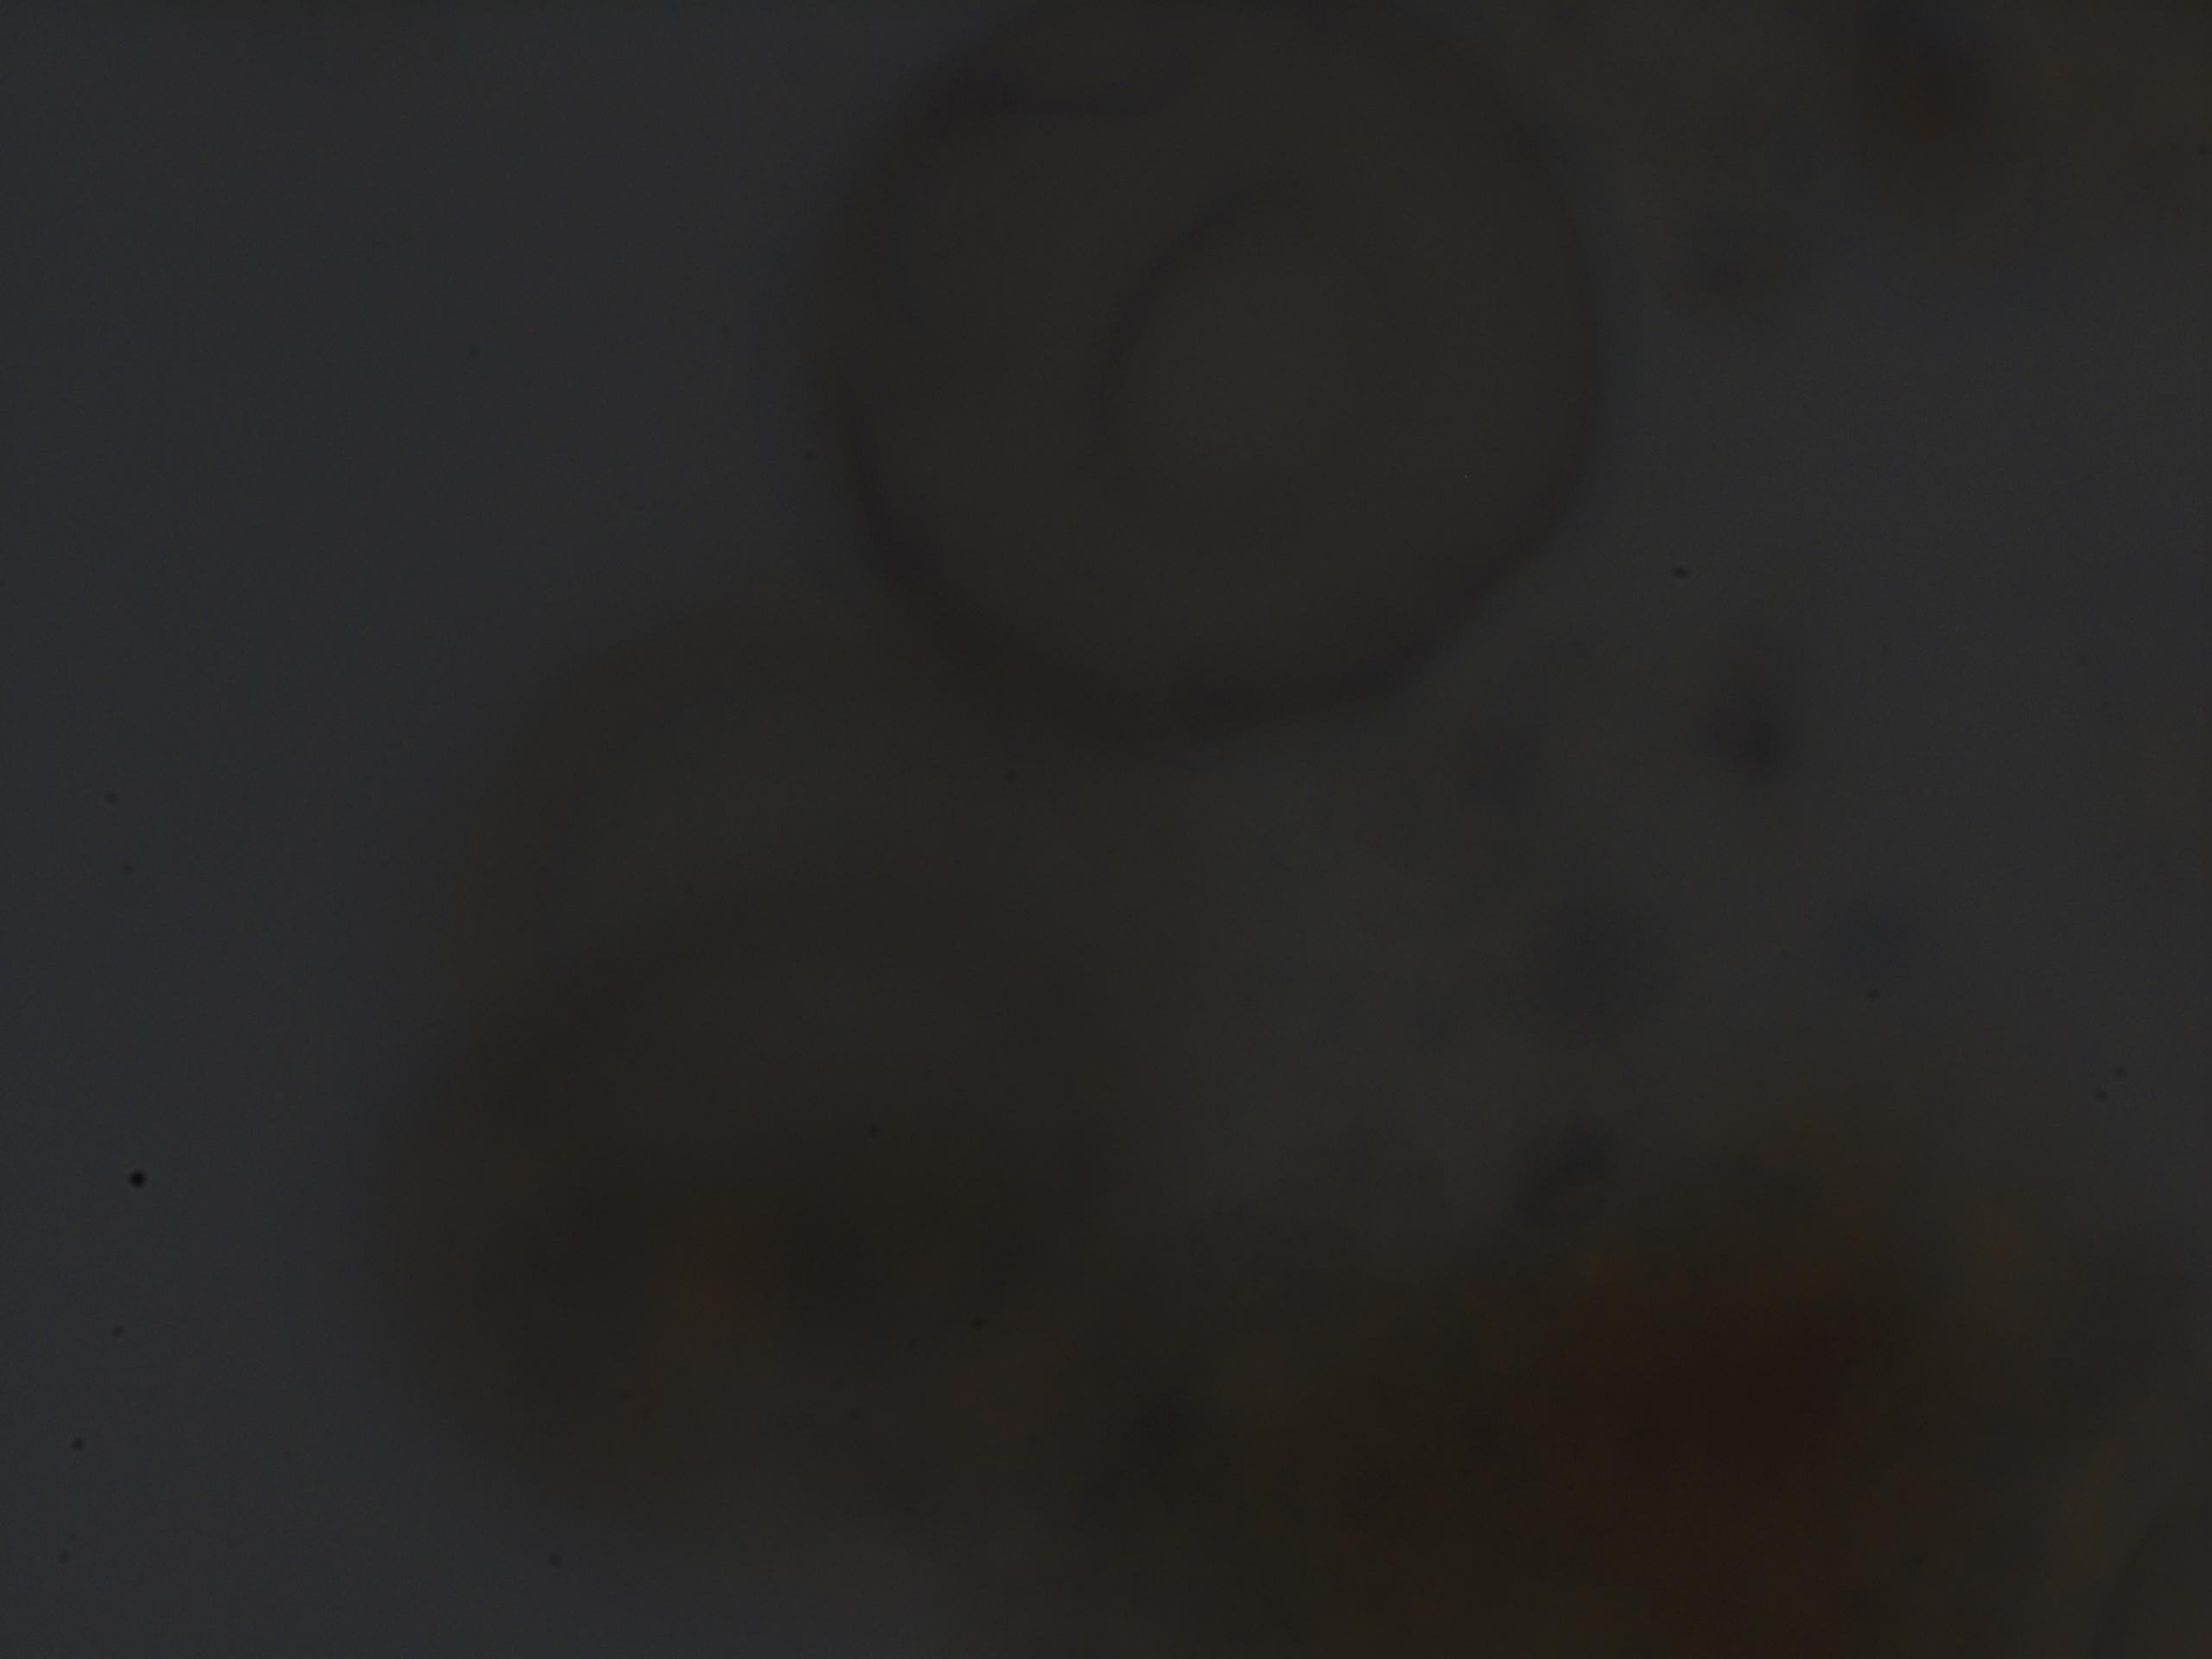protozoa: (787, 0, 1648, 737)
